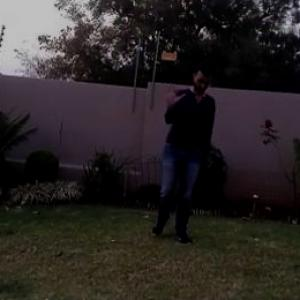follow_hand: (159, 80, 185, 109)
